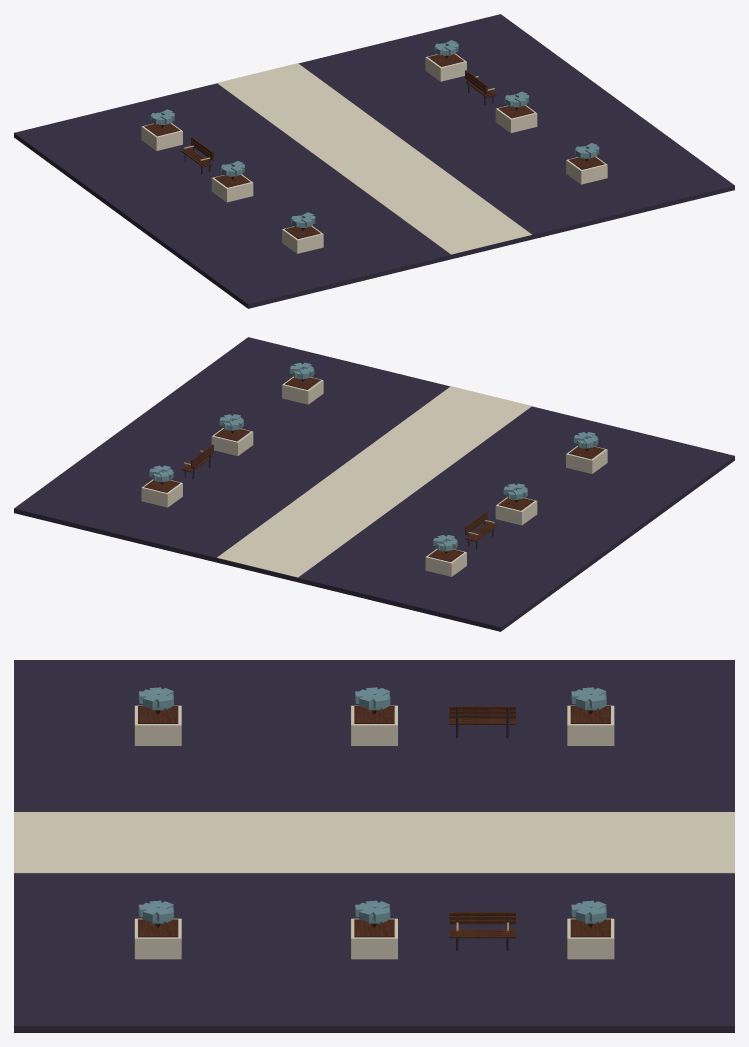
The model's file is park_garden.glb.
3 views of the same model, one above another, from view 1: azimuth 30°, elevation 25°; view 2: azimuth 150°, elevation 25°; view 3: azimuth 270°, elevation 25° (orthographic). The views are drawn at different scales.
Parts seen in each view (by area): view 1: Runtime_park_garden; view 2: Runtime_park_garden; view 3: Runtime_park_garden.
Boxes of the visible parts, bbox=[...] form: Runtime_park_garden: bbox=[14, 14, 734, 308]; Runtime_park_garden: bbox=[14, 337, 734, 631]; Runtime_park_garden: bbox=[14, 660, 734, 1032].
Size of the model in its own units: 24 by 1.54 by 20.
5 materials, 1 textured.
